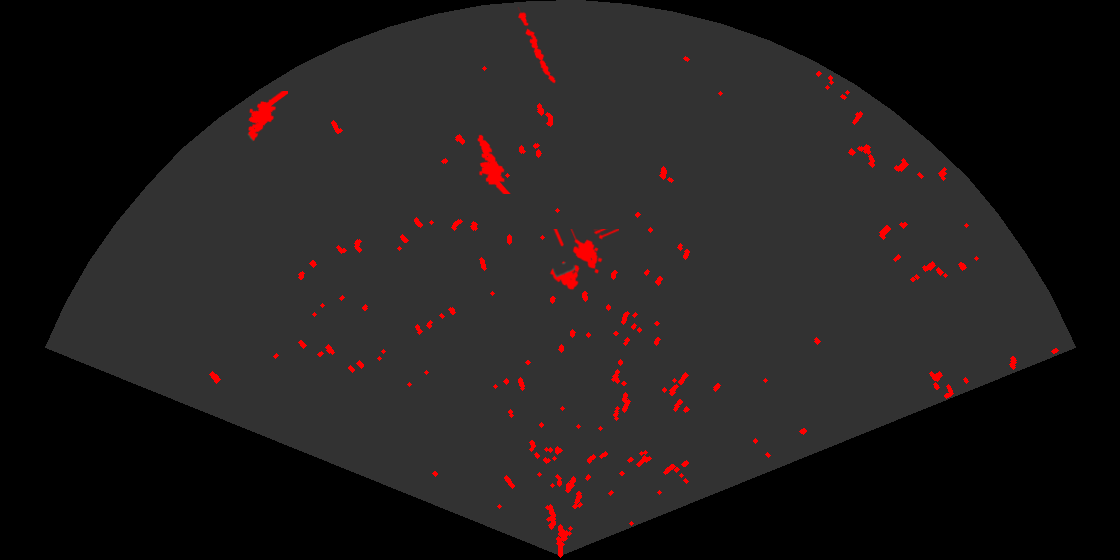cage: (548, 229, 619, 292)
chain: (516, 7, 557, 86)
frogman: (476, 133, 512, 194), (246, 91, 288, 142)
